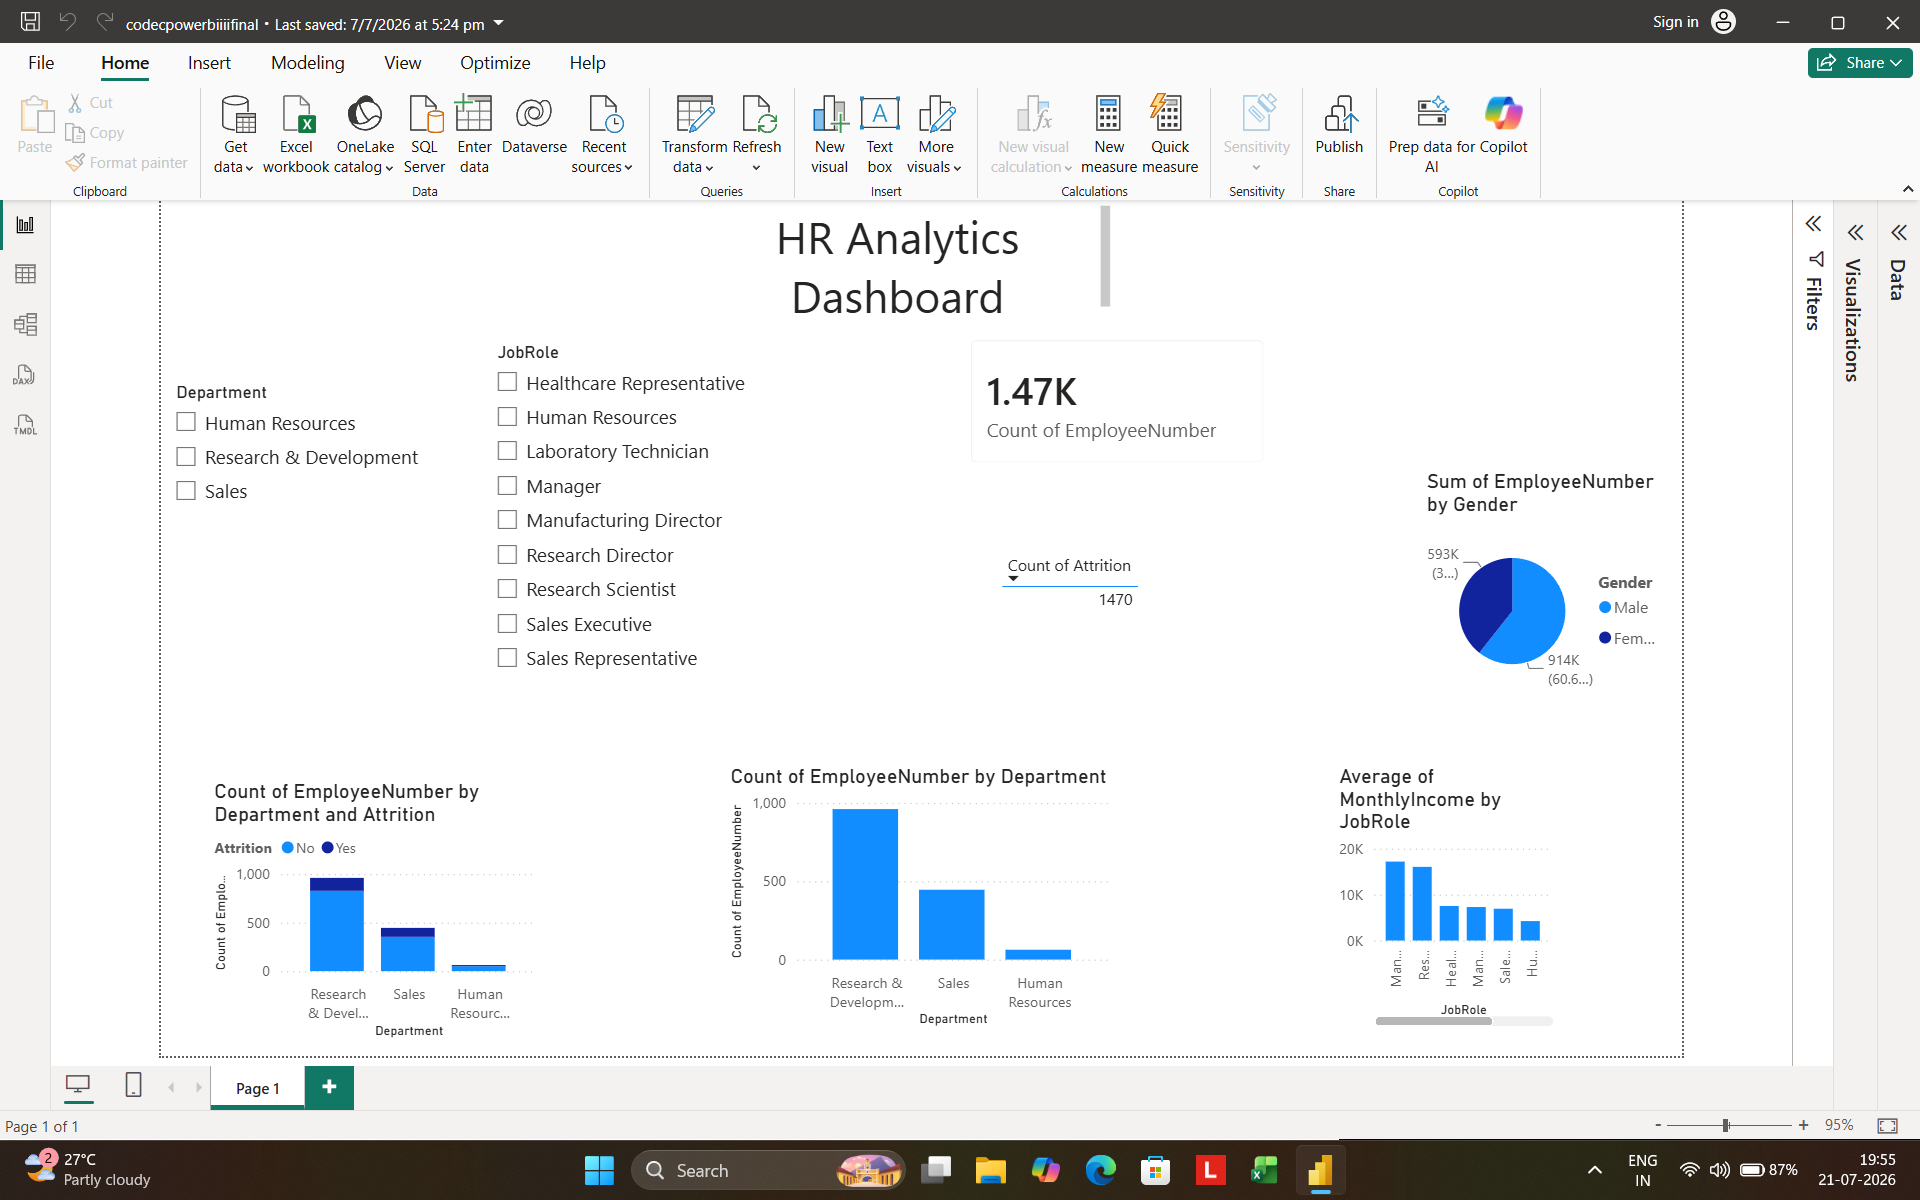

The dashboard page shown, as its layout file describes it:
{"tool":"powerbi","page":{"name":"Page 1","canvas":[1280,720],"ordinal":0},"visuals":[{"type":"cardVisual","fields":{"Data":["CountNonNull(WA_Fn-UseC_-HR-Employee-Attrition (2).EmployeeNumber)"]},"box":[664.3,101.4,280,137.1],"z":0},{"type":"tableEx","fields":{"Values":["WA_Fn-UseC_-HR-Employee-Attrition (2).Attrition"]},"box":[701.4,291.4,207.1,135.7],"z":1000},{"type":"clusteredColumnChart","fields":{"Category":["WA_Fn-UseC_-HR-Employee-Attrition (2).Department"],"Y":["CountNonNull(WA_Fn-UseC_-HR-Employee-Attrition (2).EmployeeNumber)"]},"box":[474.3,474.3,328.6,225.7],"z":2000},{"type":"pieChart","fields":{"Category":["WA_Fn-UseC_-HR-Employee-Attrition (2).Gender"],"Y":["Sum(WA_Fn-UseC_-HR-Employee-Attrition (2).EmployeeNumber)"]},"box":[1060,225.7,220,201.4],"z":3000},{"type":"clusteredColumnChart","fields":{"Category":["WA_Fn-UseC_-HR-Employee-Attrition (2).JobRole"],"Y":["Avg(WA_Fn-UseC_-HR-Employee-Attrition (2).MonthlyIncome)"]},"box":[985.7,474.3,190,225.7],"z":4000},{"type":"columnChart","fields":{"Category":["WA_Fn-UseC_-HR-Employee-Attrition (2).Department"],"Series":["WA_Fn-UseC_-HR-Employee-Attrition (2).Attrition"],"Y":["CountNonNull(WA_Fn-UseC_-HR-Employee-Attrition (2).EmployeeNumber)"]},"box":[40,487.1,281.4,222.9],"z":5000},{"type":"textbox","box":[444.3,0,358.6,101.4],"z":7000},{"type":"slicer","fields":{"Values":["WA_Fn-UseC_-HR-Employee-Attrition (2).Department"]},"box":[0,148.6,237.1,122.9],"z":8000},{"type":"slicer","fields":{"Values":["WA_Fn-UseC_-HR-Employee-Attrition (2).JobRole"]},"box":[270,114.3,241.4,301.4],"z":9000}]}

Visuals, with their boxes on the page's 1280x720 design canvas (x1, y1, x2, y2). These are canvas units, not pixel positions in the 1920x1200 screenshot, which may show the page scaled, cropped or inside an application window:
cardVisual - CountNonNull(WA_Fn-UseC_-HR-Employee-Attrition (2).EmployeeNumber): crop(664, 101, 944, 238)
tableEx - WA_Fn-UseC_-HR-Employee-Attrition (2).Attrition: crop(701, 291, 908, 427)
clusteredColumnChart - WA_Fn-UseC_-HR-Employee-Attrition (2).Department x CountNonNull(WA_Fn-UseC_-HR-Employee-Attrition (2).EmployeeNumber): crop(474, 474, 803, 700)
pieChart - WA_Fn-UseC_-HR-Employee-Attrition (2).Gender x Sum(WA_Fn-UseC_-HR-Employee-Attrition (2).EmployeeNumber): crop(1060, 226, 1280, 427)
clusteredColumnChart - WA_Fn-UseC_-HR-Employee-Attrition (2).JobRole x Avg(WA_Fn-UseC_-HR-Employee-Attrition (2).MonthlyIncome): crop(986, 474, 1176, 700)
columnChart - WA_Fn-UseC_-HR-Employee-Attrition (2).Department x WA_Fn-UseC_-HR-Employee-Attrition (2).Attrition: crop(40, 487, 321, 710)
textbox: crop(444, 0, 803, 101)
slicer - WA_Fn-UseC_-HR-Employee-Attrition (2).Department: crop(0, 149, 237, 272)
slicer - WA_Fn-UseC_-HR-Employee-Attrition (2).JobRole: crop(270, 114, 511, 416)
